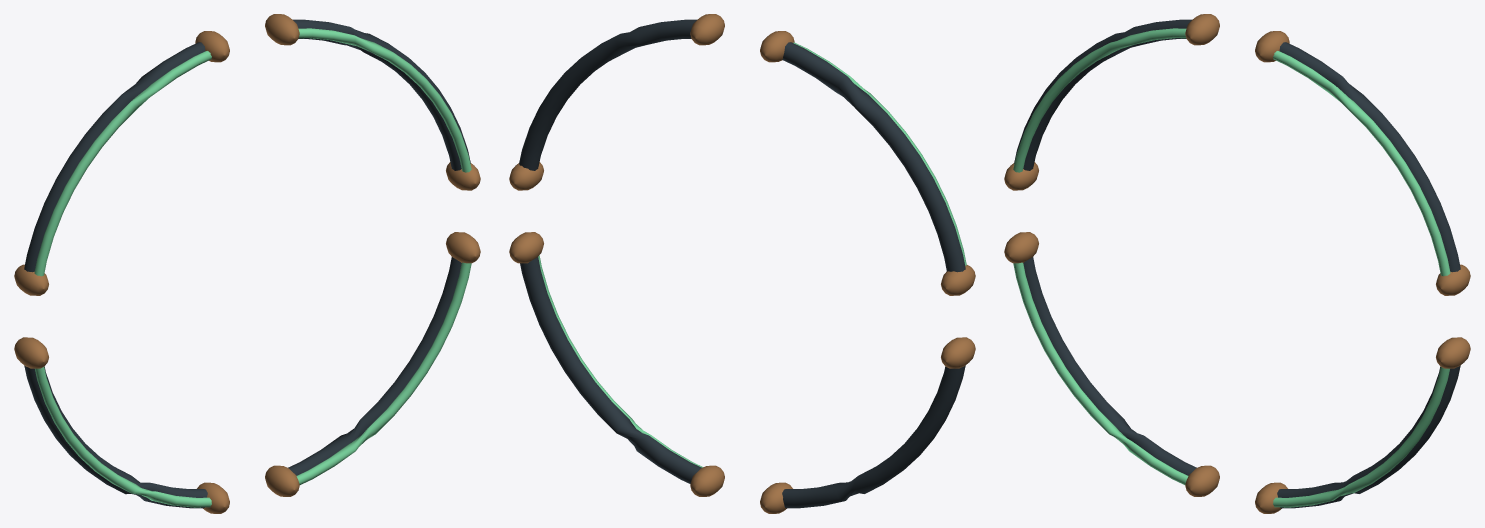
Rendered from patrol_gate.glb.
3 renders of one model, left to right at view 1: azimuth 30°, elevation 25°; view 2: azimuth 150°, elevation 25°; view 3: azimuth 330°, elevation 25°, orthographic.
Parts seen in each view (by area): view 1: patrol_gate; view 2: patrol_gate; view 3: patrol_gate.
Part boxes in pixels (x1,y1,x2,y2): patrol_gate: (14,14,480,513); patrol_gate: (509,14,975,513); patrol_gate: (1004,14,1470,513).
Bounding box in the file's own units: 7.21 × 7.21 × 0.6599.
